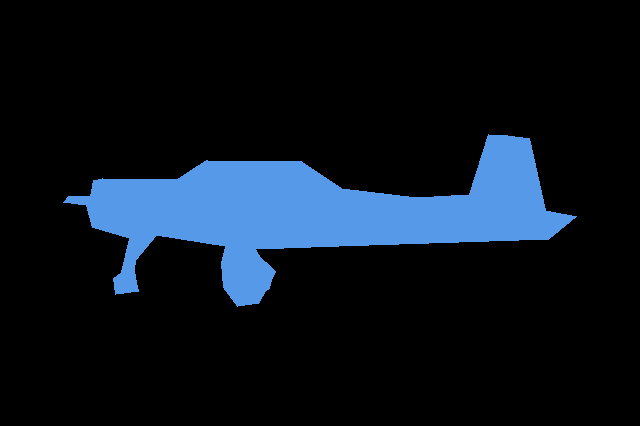Airplane: (63, 134, 577, 307)
